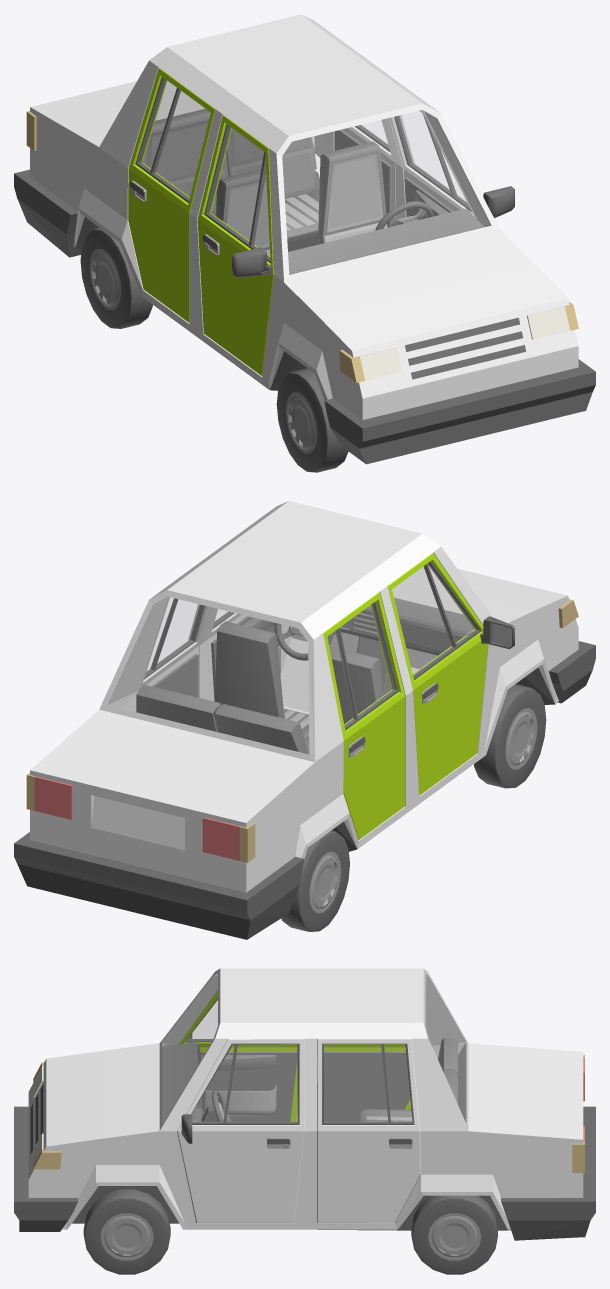
3 renders of one model, top to bottom at view 1: azimuth 30°, elevation 25°; view 2: azimuth 150°, elevation 25°; view 3: azimuth 270°, elevation 25°, orthographic. The views are drawn at different scales.
Visible parts, largest first — view 1: Chassis_Chassis_0, Windows_Windows_0, Chassis_Bumpers_0, Interior_InteriorPanel_0, FR_Door_Chassis_0, RR_Door_Chassis_0, Interior_Handler_0, RR_Door_Windows_0, FR_Door_Windows_0, FR_Wheel_Tire_0, RR_Wheel_Tire_0, FR_Door_Bumpers_0 (+11 smaller); view 2: Chassis_Chassis_0, Windows_Windows_0, Chassis_Bumpers_0, Interior_InteriorPanel_0, FR_Door_Chassis_0, RR_Door_Chassis_0, FR_Door_Windows_0, RR_Door_Windows_0, FR_Wheel_Tire_0, RR_Wheel_Tire_0, Brake_Lights_Brake_lights_0, FR_Door_Bumpers_0 (+11 smaller); view 3: Chassis_Chassis_0, FL_Door_Chassis_0, RL_Door_Chassis_0, Chassis_Bumpers_0, Windows_Windows_0, FL_Door_Windows_0, RL_Door_Windows_0, RR_Door_InteriorPanel_0, FL_Wheel_Tire_0, RL_Wheel_Tire_0, FR_Door_InteriorPanel_0, Interior_InteriorPanel_0 (+9 smaller).
Part boxes in pixels (left/top/right/bottom): Chassis_Chassis_0: left=30, top=14, right=578, bottom=419; Windows_Windows_0: left=156, top=82, right=489, bottom=273; Chassis_Bumpers_0: left=14, top=169, right=595, bottom=464; Interior_InteriorPanel_0: left=142, top=108, right=484, bottom=274; FR_Door_Chassis_0: left=197, top=115, right=273, bottom=375; RR_Door_Chassis_0: left=128, top=68, right=215, bottom=322; Interior_Handler_0: left=226, top=153, right=386, bottom=255; RR_Door_Windows_0: left=139, top=80, right=209, bottom=198; FR_Door_Windows_0: left=208, top=127, right=269, bottom=258; FR_Wheel_Tire_0: left=276, top=368, right=348, bottom=472; RR_Wheel_Tire_0: left=80, top=227, right=152, bottom=328; FR_Door_Bumpers_0: left=203, top=124, right=271, bottom=277; Chassis_Chassis_0: left=30, top=501, right=578, bottom=892; Windows_Windows_0: left=108, top=568, right=461, bottom=753; Chassis_Bumpers_0: left=14, top=641, right=595, bottom=939; Interior_InteriorPanel_0: left=136, top=601, right=473, bottom=754; FR_Door_Chassis_0: left=387, top=553, right=488, bottom=795; RR_Door_Chassis_0: left=323, top=592, right=405, bottom=839; FR_Door_Windows_0: left=392, top=563, right=477, bottom=675; RR_Door_Windows_0: left=328, top=604, right=395, bottom=726; FR_Wheel_Tire_0: left=474, top=684, right=546, bottom=788; RR_Wheel_Tire_0: left=281, top=830, right=349, bottom=931; Brake_Lights_Brake_lights_0: left=34, top=776, right=239, bottom=860; FR_Door_Bumpers_0: left=413, top=561, right=514, bottom=701; Chassis_Chassis_0: left=28, top=968, right=583, bottom=1229; FL_Door_Chassis_0: left=177, top=1038, right=304, bottom=1223; RL_Door_Chassis_0: left=317, top=1038, right=420, bottom=1223; Chassis_Bumpers_0: left=14, top=1085, right=595, bottom=1240; Windows_Windows_0: left=164, top=974, right=465, bottom=1120; FL_Door_Windows_0: left=192, top=1044, right=297, bottom=1122; RL_Door_Windows_0: left=324, top=1044, right=411, bottom=1121; RR_Door_InteriorPanel_0: left=324, top=1052, right=410, bottom=1121; FL_Wheel_Tire_0: left=83, top=1189, right=170, bottom=1274; RL_Wheel_Tire_0: left=411, top=1195, right=497, bottom=1274; FR_Door_InteriorPanel_0: left=200, top=1052, right=297, bottom=1121; Interior_InteriorPanel_0: left=162, top=1038, right=457, bottom=1123.
Bounding box in the file's own units: 5.2 × 4.99 × 11.18.
